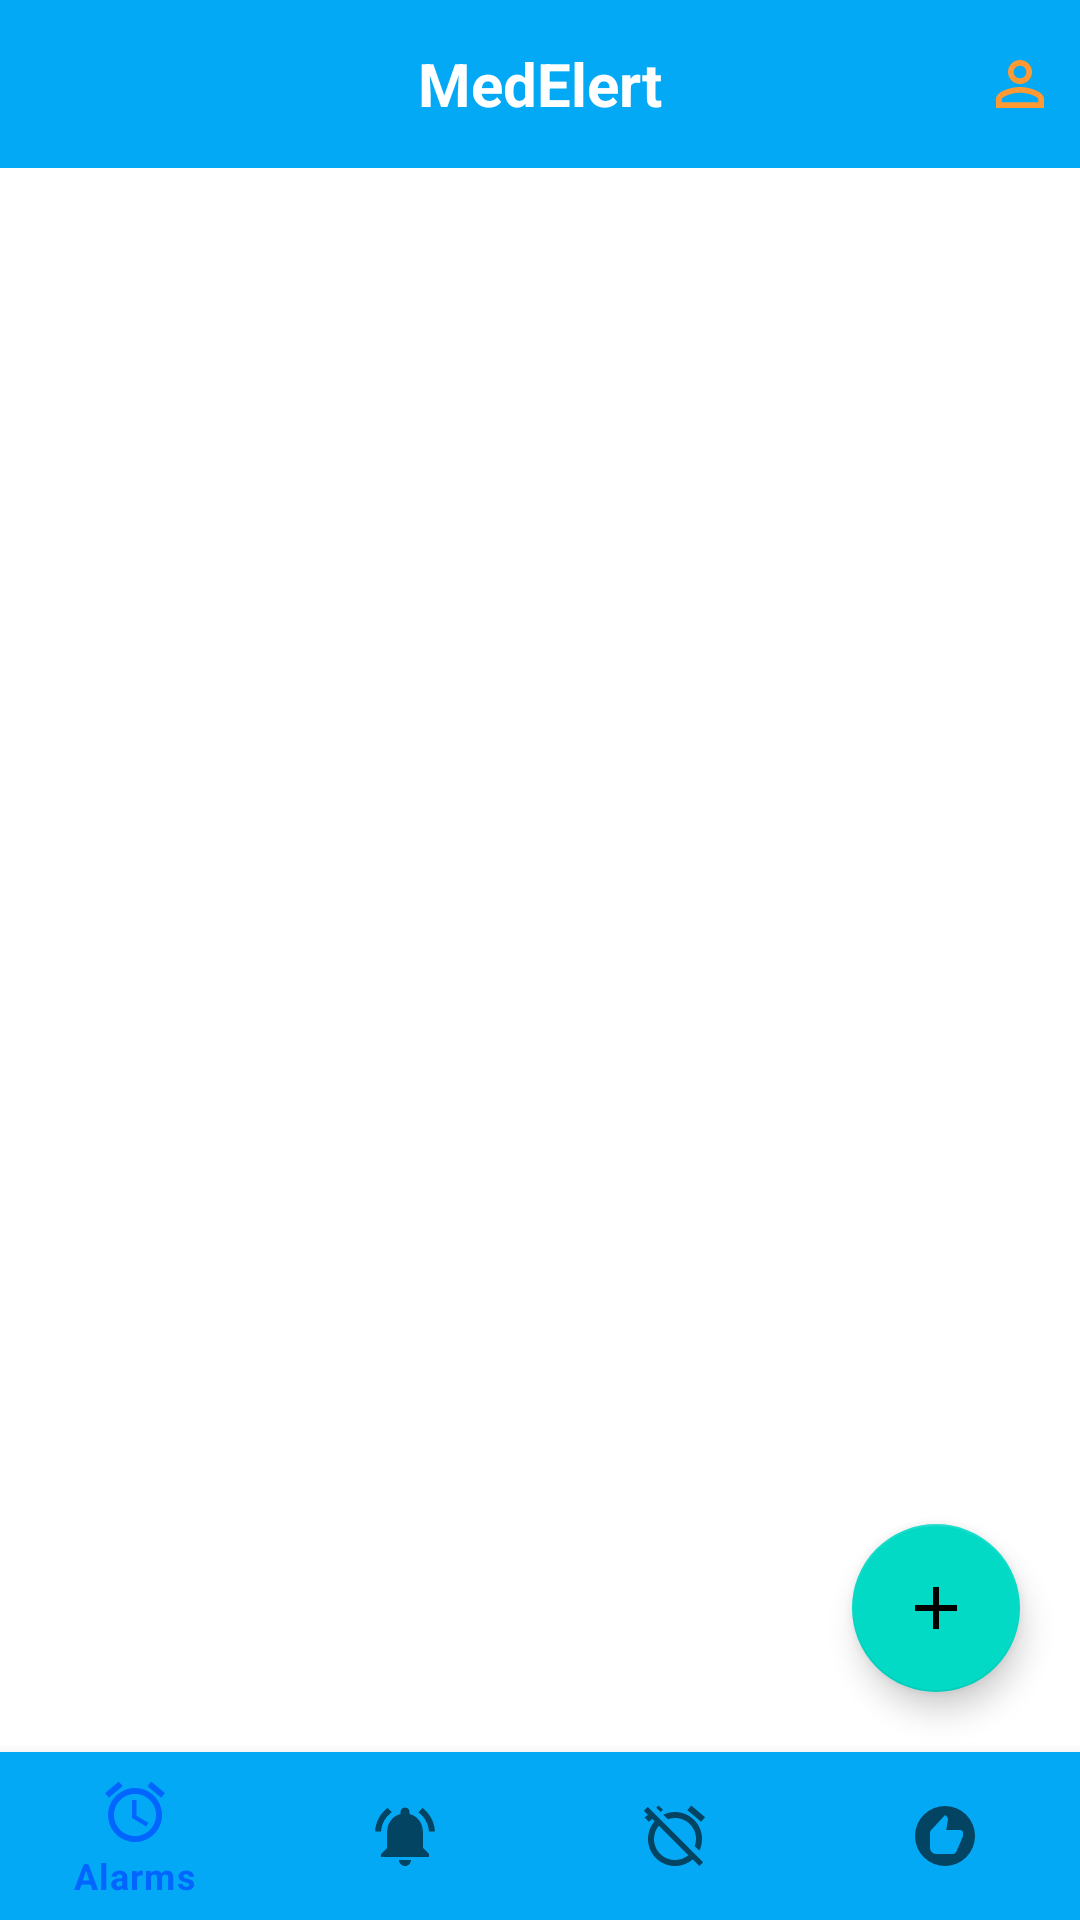

Icon click points for this 1080w x 1920h phone screenshot, format point (x, y):
add: point (936, 1608)
Profile: point (1020, 84)
